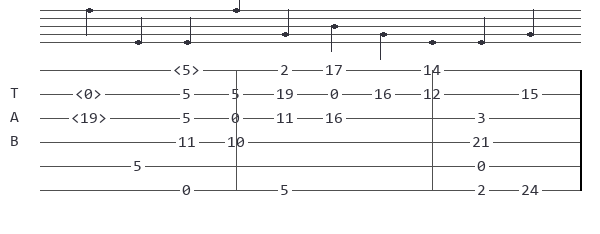0: (182, 183, 195, 197), (231, 111, 244, 125), (330, 87, 343, 101), (477, 159, 490, 173)
10: (227, 135, 249, 149)
11: (178, 135, 200, 149), (276, 111, 298, 125)
12: (423, 87, 445, 101)
14: (423, 63, 445, 77)
15: (521, 87, 543, 101)
16: (325, 111, 347, 125), (374, 87, 396, 101)
17: (325, 63, 347, 77)
19: (276, 87, 298, 101)
2: (280, 63, 293, 77), (477, 183, 490, 197)
21: (472, 135, 494, 149)
24: (521, 183, 543, 197)
3: (477, 111, 490, 125)
5: (133, 159, 146, 173), (182, 111, 195, 125), (182, 87, 195, 101), (231, 87, 244, 101), (280, 183, 293, 197)
harmonic: (71, 111, 111, 125), (75, 87, 106, 101), (173, 63, 204, 77)
